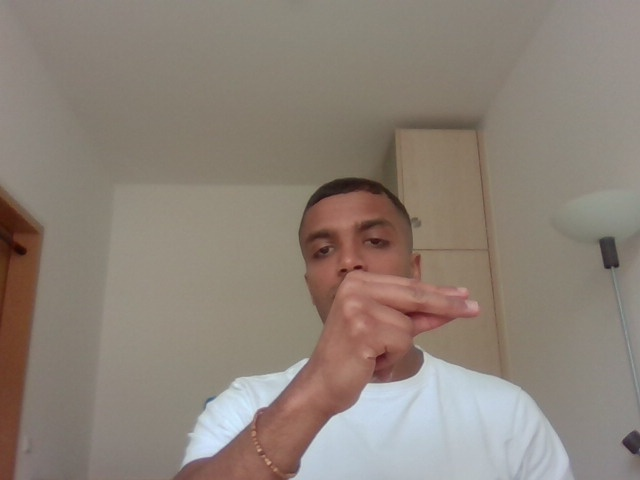no: (297, 260, 486, 423)
